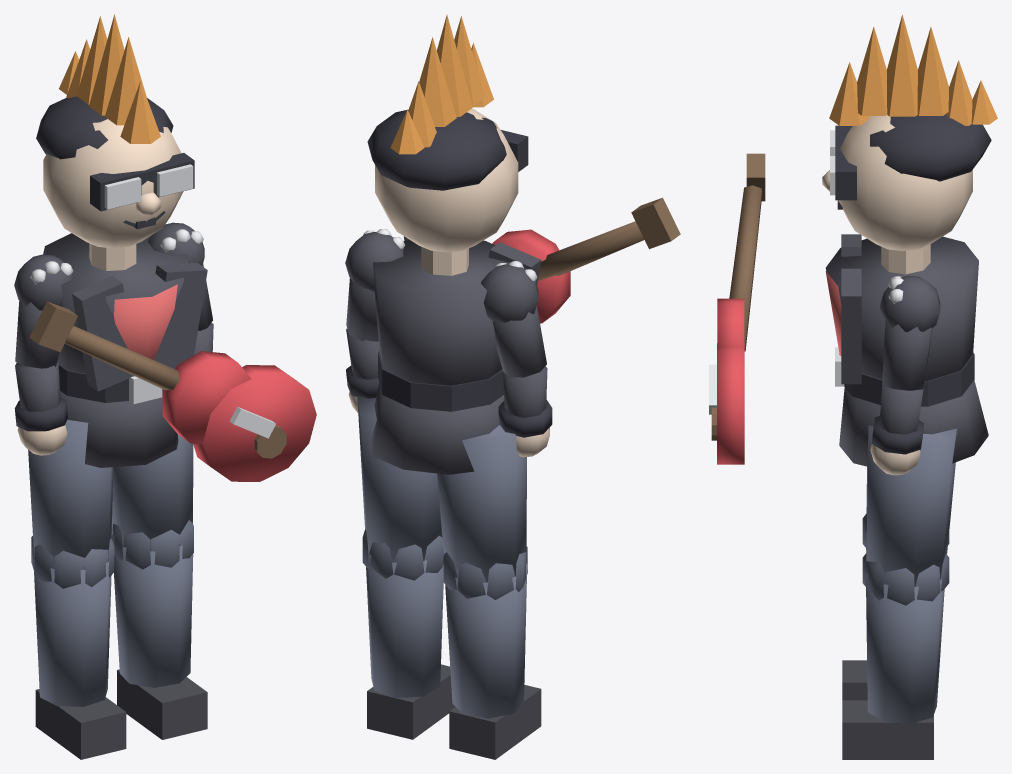
The model's file is meeple_14_rockstar_stand.glb.
3 renders of one model, left to right at view 1: azimuth 30°, elevation 25°; view 2: azimuth 150°, elevation 25°; view 3: azimuth 270°, elevation 25°, orthographic.
Visible parts, largest first — view 1: meeple_14_rockstar_stand; view 2: meeple_14_rockstar_stand; view 3: meeple_14_rockstar_stand.
Boxes of the visible parts, x1=… form: meeple_14_rockstar_stand: x1=14, y1=14, x2=316, y2=759; meeple_14_rockstar_stand: x1=345, y1=15, x2=680, y2=759; meeple_14_rockstar_stand: x1=709, y1=14, x2=997, y2=759.
Bounding box in the file's own units: 0.6876 × 1.77 × 0.647.
